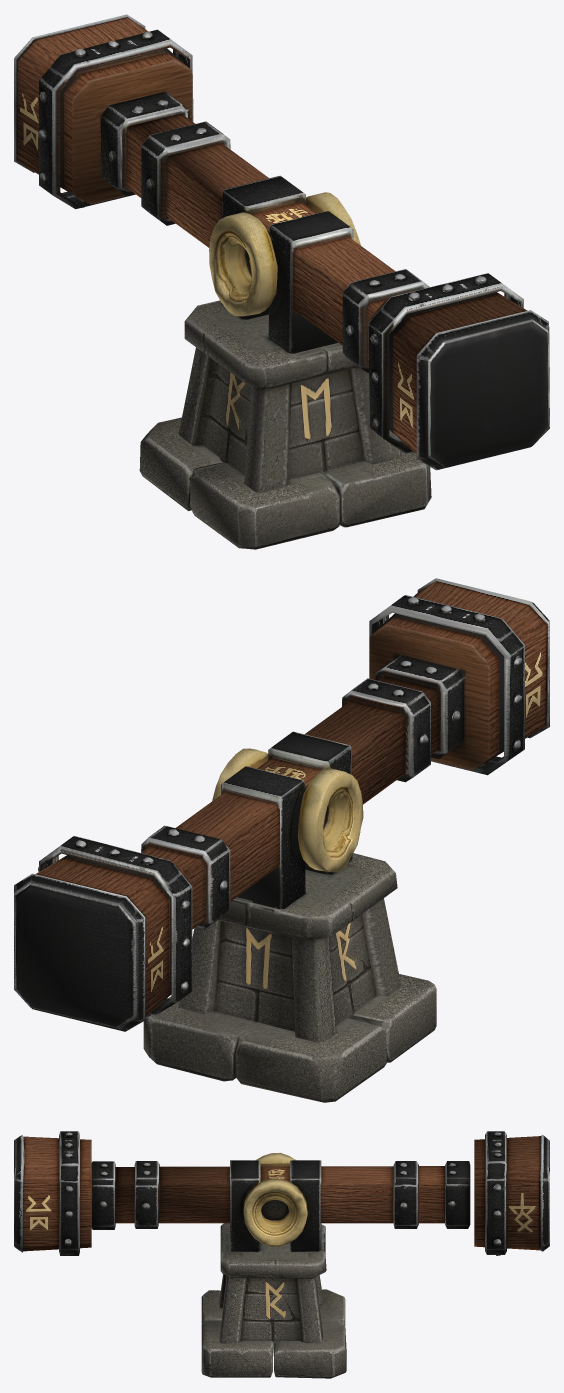
Rendered from tripo_convert_c632a524-237a-4b6f-acdc-d293f857ff1e.fbx.
The picture shows the model from 3 angles, top to bottom: view 1: azimuth 30°, elevation 25°; view 2: azimuth 150°, elevation 25°; view 3: azimuth 270°, elevation 25°; orthographic projection. The views are drawn at different scales.
Parts seen in each view (by area): view 1: tripo_node_c632a524; view 2: tripo_node_c632a524; view 3: tripo_node_c632a524.
Part boxes in pixels (x1,y1,x2,y2): tripo_node_c632a524: (14,14,549,549); tripo_node_c632a524: (14,578,549,1102); tripo_node_c632a524: (14,1131,549,1378).
Bounding box in the file's own units: 0.2715 × 0.4238 × 0.998.
Materials: 1 (1 with a texture image).
